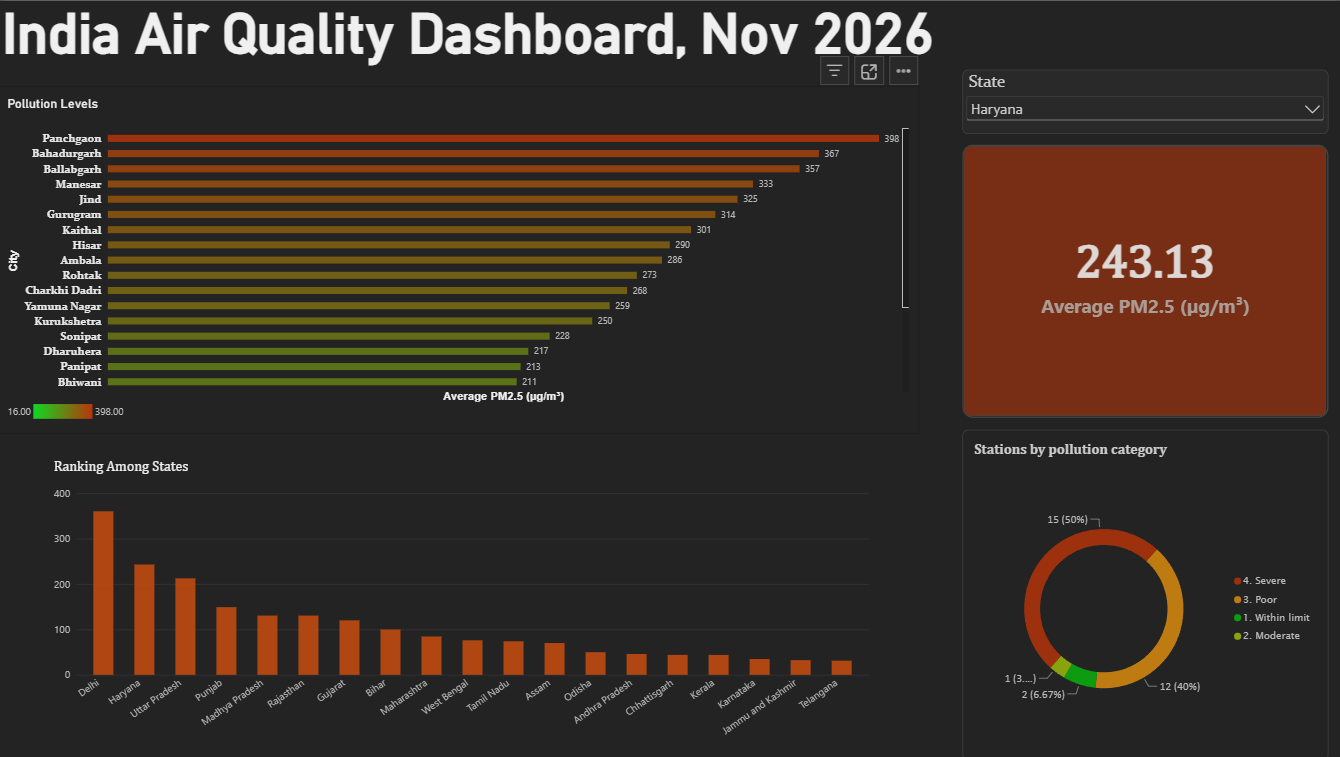

This screenshot's page, from the dashboard's own definition file:
{"tool":"powerbi","page":{"name":"Page 1","canvas":[1920,1080],"ordinal":0},"visuals":[{"type":"slicer","fields":{"Values":["air_quality v_states.state"]},"box":[1375,97.5,519.7,91.5],"z":0},{"type":"textbox","box":[10,0,1463.2,119],"z":1000},{"type":"cardVisual","fields":{"Data":["Avg(air_quality v_station_map.pm25)"]},"box":[1375,205,519.7,388.1],"z":2000},{"type":"clusteredBarChart","title":"Pollution Levels","fields":{"Category":["air_quality v_station_map.city"],"Y":["Avg(air_quality v_station_map.pm25)"]},"box":[2.5,120,1312.5,495],"z":3000},{"type":"donutChart","title":"Stations by pollution category","fields":{"Category":["air_quality v_pm25_category.category"],"Y":["Count(air_quality v_pm25_category.station)"]},"box":[1375,610,520,470],"z":4000},{"type":"clusteredColumnChart","title":"Ranking Among States","fields":{"Category":["air_quality v_state_rank.state"],"Y":["Avg(air_quality v_state_rank.avg_pm25)"]},"box":[67.5,635,1190,445],"z":5000}]}

Visuals, with their boxes in screenshot pixels (x1, y1, x2, y2), scaled from the page's 1920x1080 canvas onto the 1340x757 screenshot:
slicer - air_quality v_states.state: region(960, 68, 1322, 132)
textbox: region(7, 0, 1028, 83)
cardVisual - Avg(air_quality v_station_map.pm25): region(960, 144, 1322, 416)
"Pollution Levels" clusteredBarChart: region(2, 84, 918, 431)
"Stations by pollution category" donutChart: region(960, 428, 1323, 756)
"Ranking Among States" clusteredColumnChart: region(47, 445, 878, 756)
